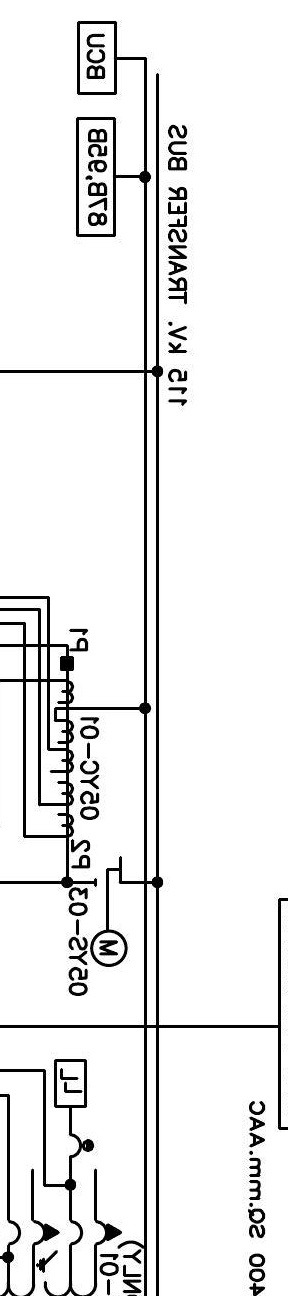115_1way_ds_w_motor: (89, 855, 129, 968)
BCU: (76, 20, 118, 96)
LL: (53, 1058, 88, 1109)
